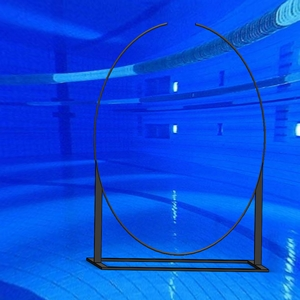circle: (85, 20, 270, 274)
